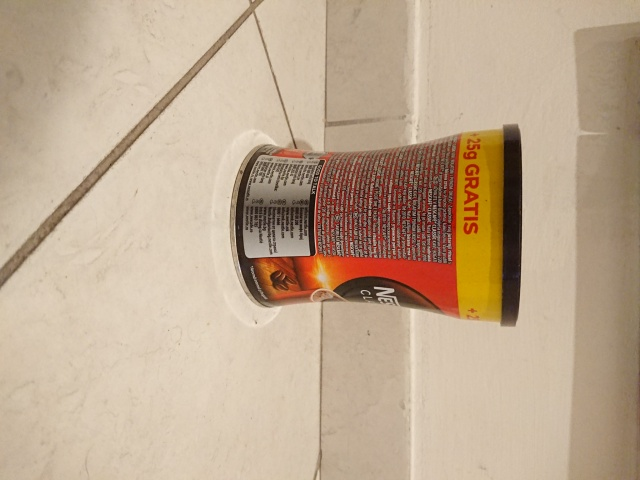Nescafe Classic 225g: (225, 120, 526, 330)
